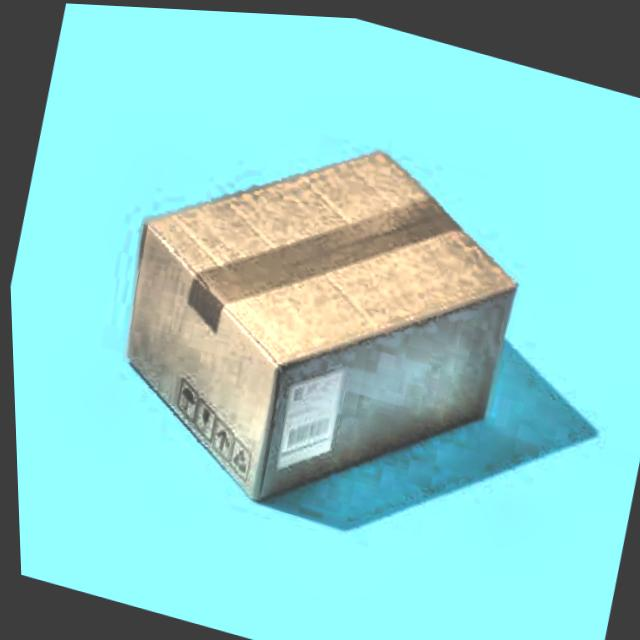Cardbox: (65, 62, 562, 564)
